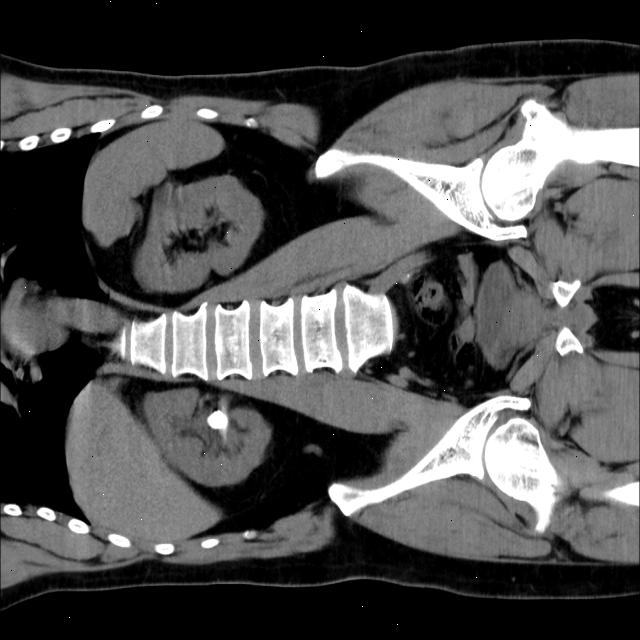kidneystone: (208, 410, 228, 428)
